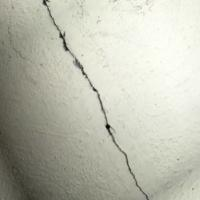crack: (38, 0, 183, 199)
